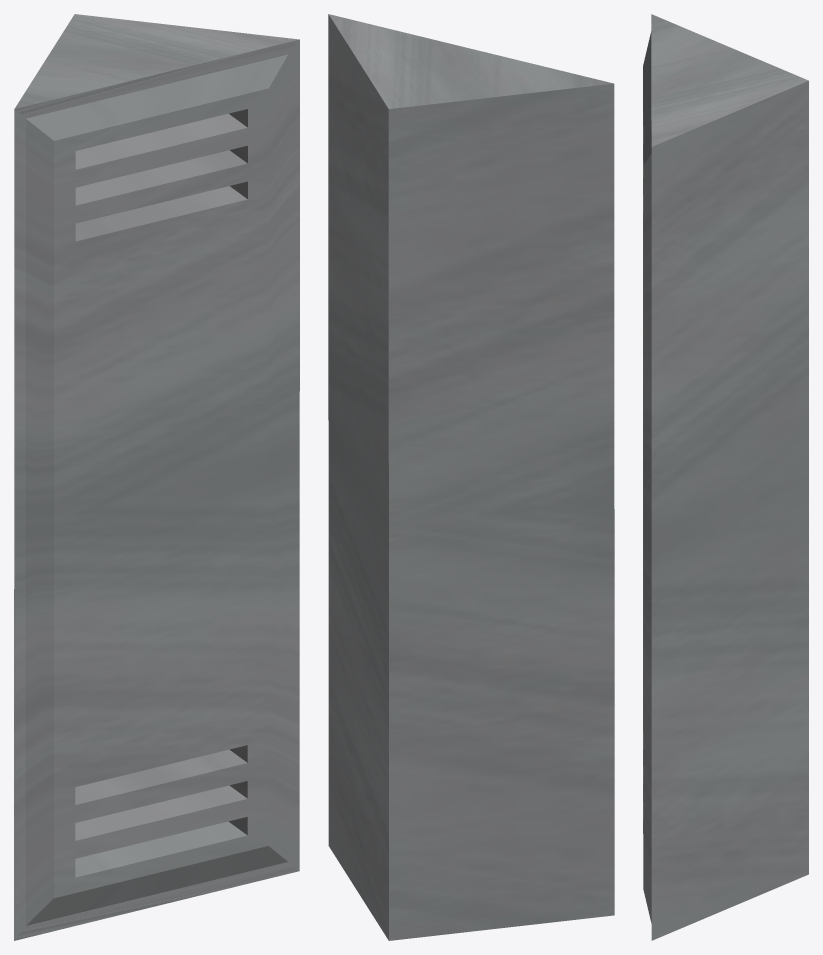
The model's file is CornerAsset2.FBX.
3 views of the same model, side by side, from view 1: azimuth 30°, elevation 25°; view 2: azimuth 150°, elevation 25°; view 3: azimuth 270°, elevation 25° (orthographic). The views are drawn at different scales.
Parts seen in each view (by area): view 1: Cone001; view 2: Cone001; view 3: Cone001.
Boxes of the visible parts, x1,y1,x2,y2 form: Cone001: [14, 14, 299, 940]; Cone001: [328, 14, 614, 940]; Cone001: [643, 14, 808, 940].
Bounding box in the file's own units: 167 × 464 × 87.86.
1 material, 1 textured.
